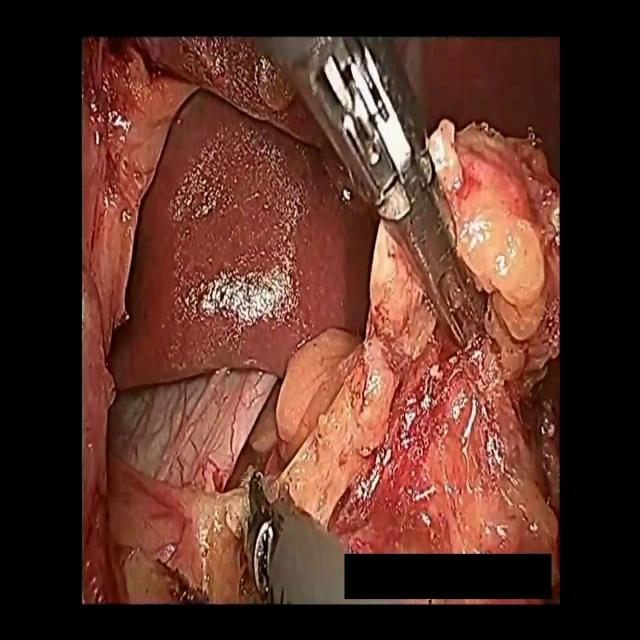surgical-area: (81, 36, 559, 608)
surgical-tool: (251, 36, 480, 356), (236, 468, 348, 608)
